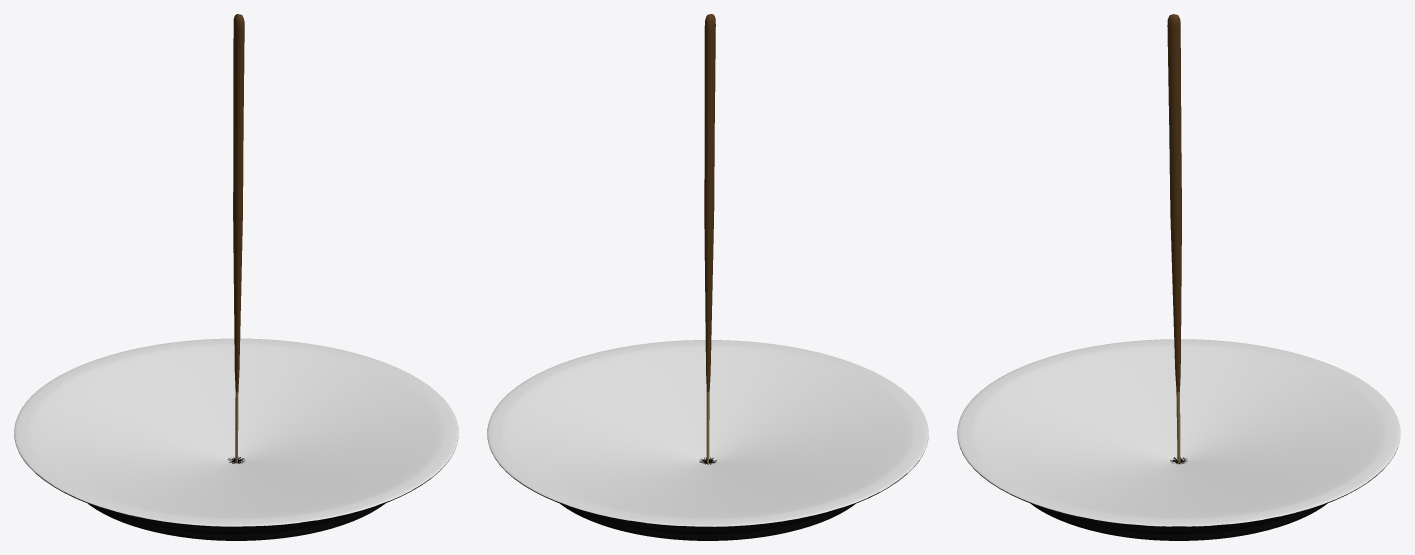
The model's file is incense.fbx.
3 views of the same model, side by side, from view 1: azimuth 30°, elevation 25°; view 2: azimuth 150°, elevation 25°; view 3: azimuth 270°, elevation 25° (orthographic).
Visible parts, largest first — view 1: Cone, Plane; view 2: Cone, Plane; view 3: Cone, Plane.
Part boxes in pixels (<box>): Cone: <box>14,338,458,540</box>; Plane: <box>233,14,244,462</box>; Cone: <box>487,340,928,540</box>; Plane: <box>704,14,715,462</box>; Cone: <box>957,339,1400,540</box>; Plane: <box>1167,14,1181,462</box>.
Size of the model in its own units: 184 by 209 by 185.
